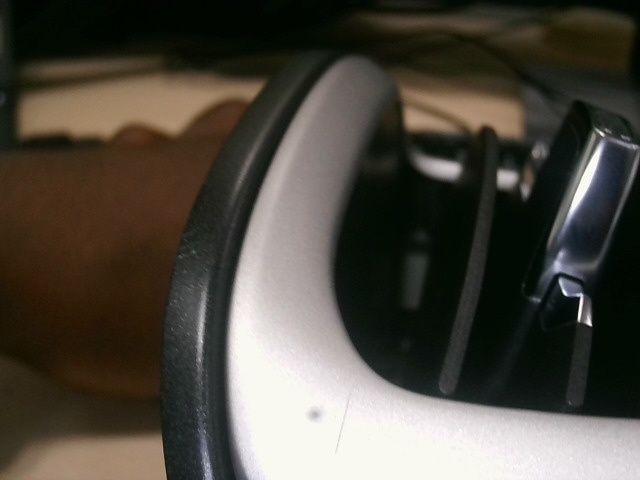NG: (331, 389, 358, 460), (181, 229, 204, 274)
